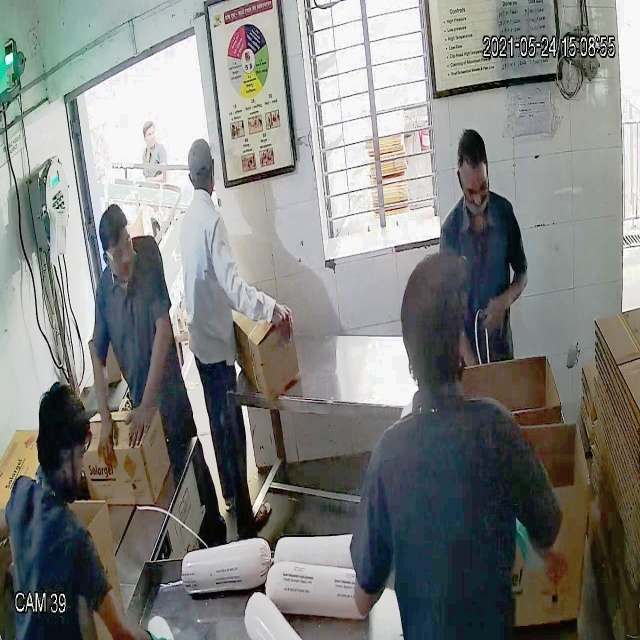Gafas: (101, 236, 136, 265)
